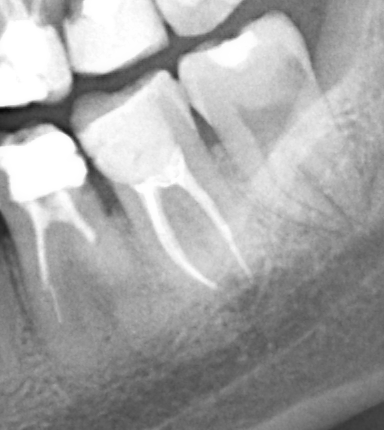fracture: (46, 287, 67, 328)
